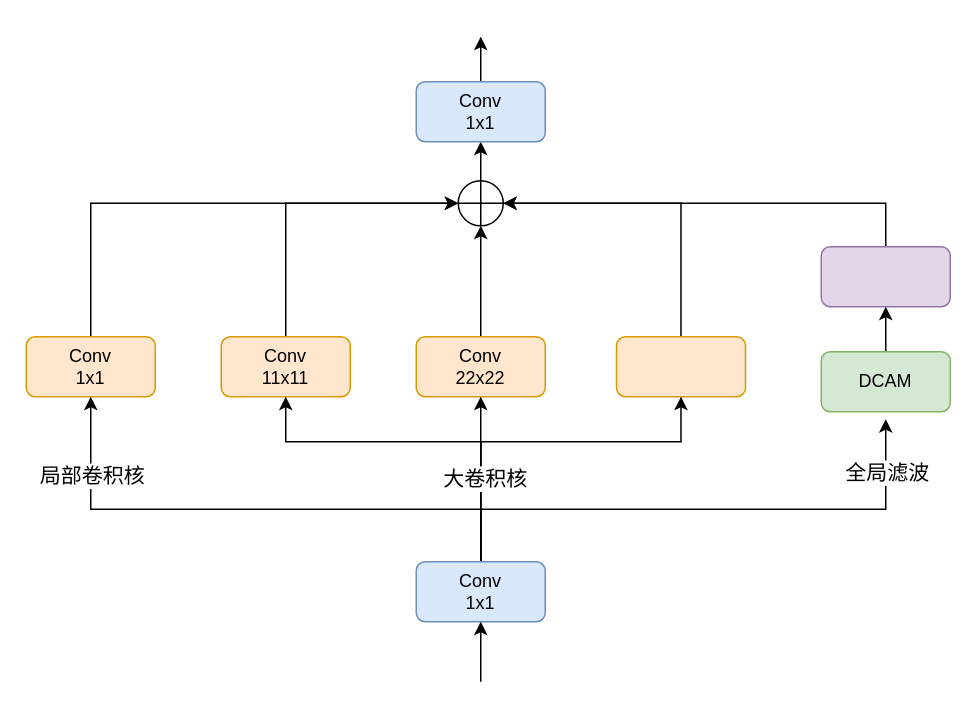
The diagram is 977 pixels wide and 720 high, and some of its shapes have lost their labels. The centre of each missing label's shape, as x and y in pixels:
Conv 33x33: [680,366]
FSAM: [885,276]
